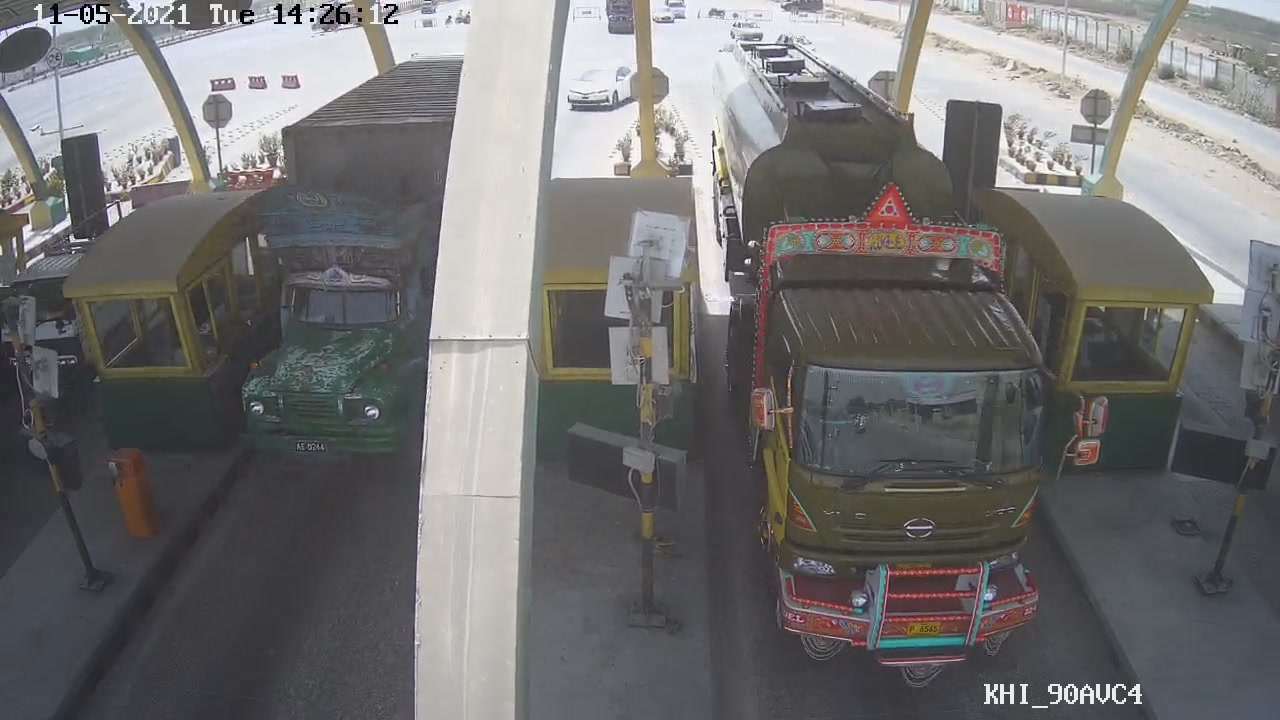F6: (696, 1, 1103, 687)
